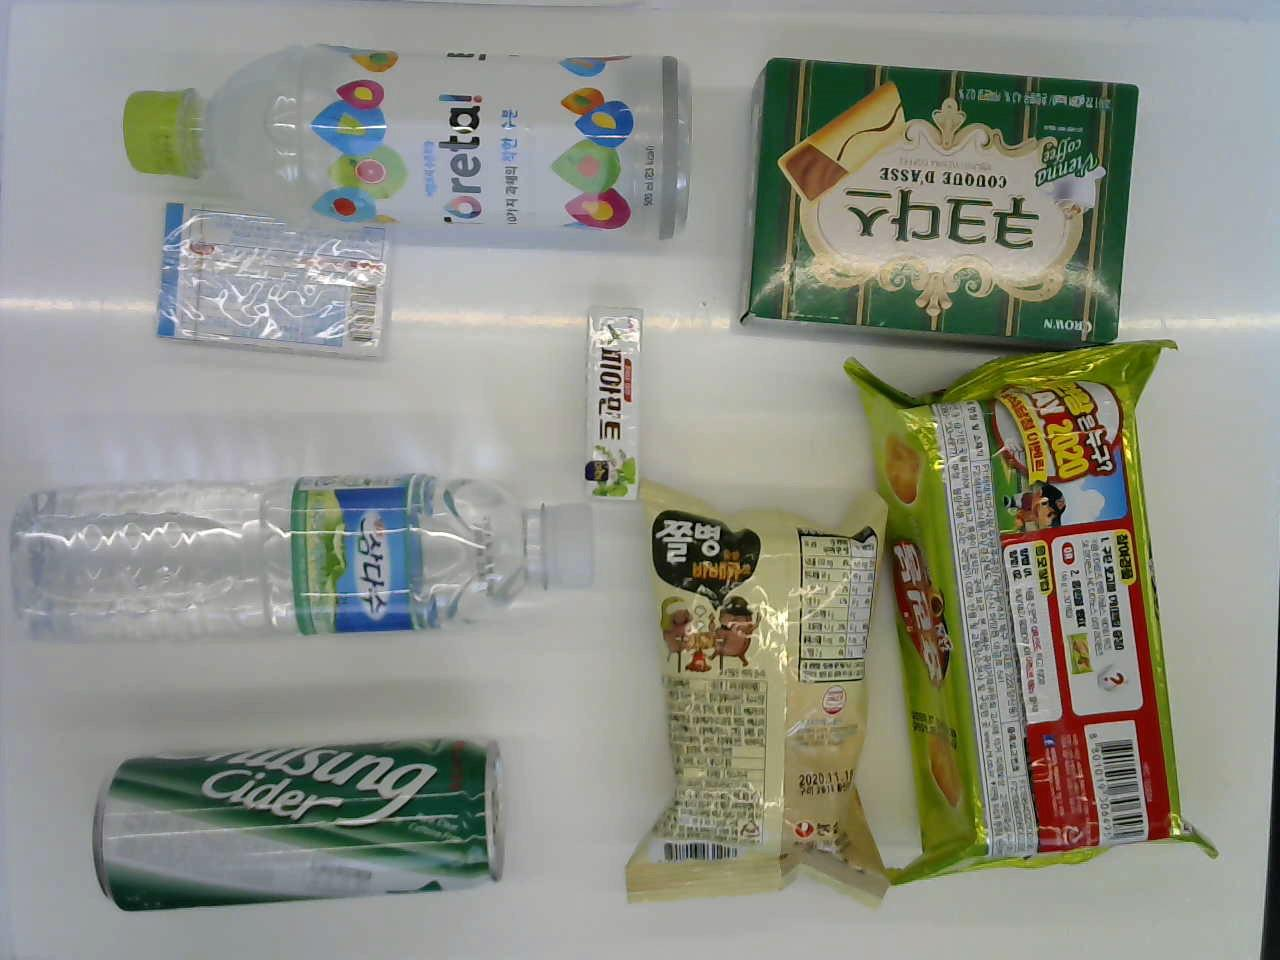ID_gum: (150, 198, 395, 365)
cidar: (85, 737, 512, 914)
couque_coffee: (735, 35, 1139, 355)
homerunball: (859, 340, 1231, 880)
jjolbyung_ori: (607, 478, 900, 890)
samdasu: (8, 452, 596, 635)
spearmint: (577, 304, 644, 502)
toreta: (119, 38, 700, 249)
